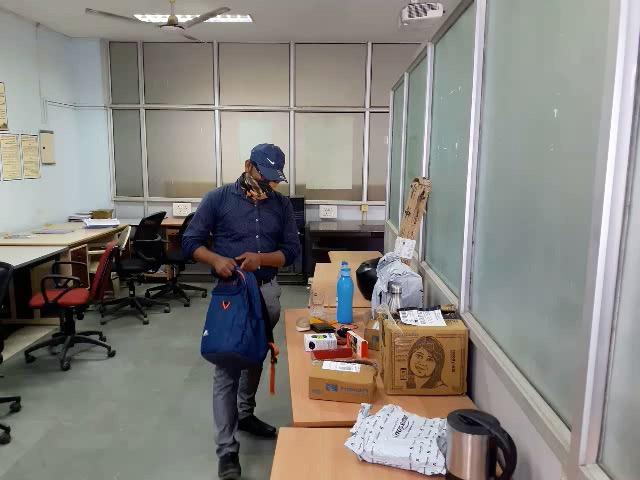Normal: (4, 3, 524, 465)
shoplifting: (166, 218, 392, 375)
